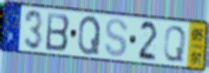2: (138, 20, 160, 64)
3: (23, 9, 45, 52)
B: (45, 11, 71, 53)
Q: (77, 15, 102, 57), (162, 25, 188, 64)
S: (103, 17, 130, 59)
